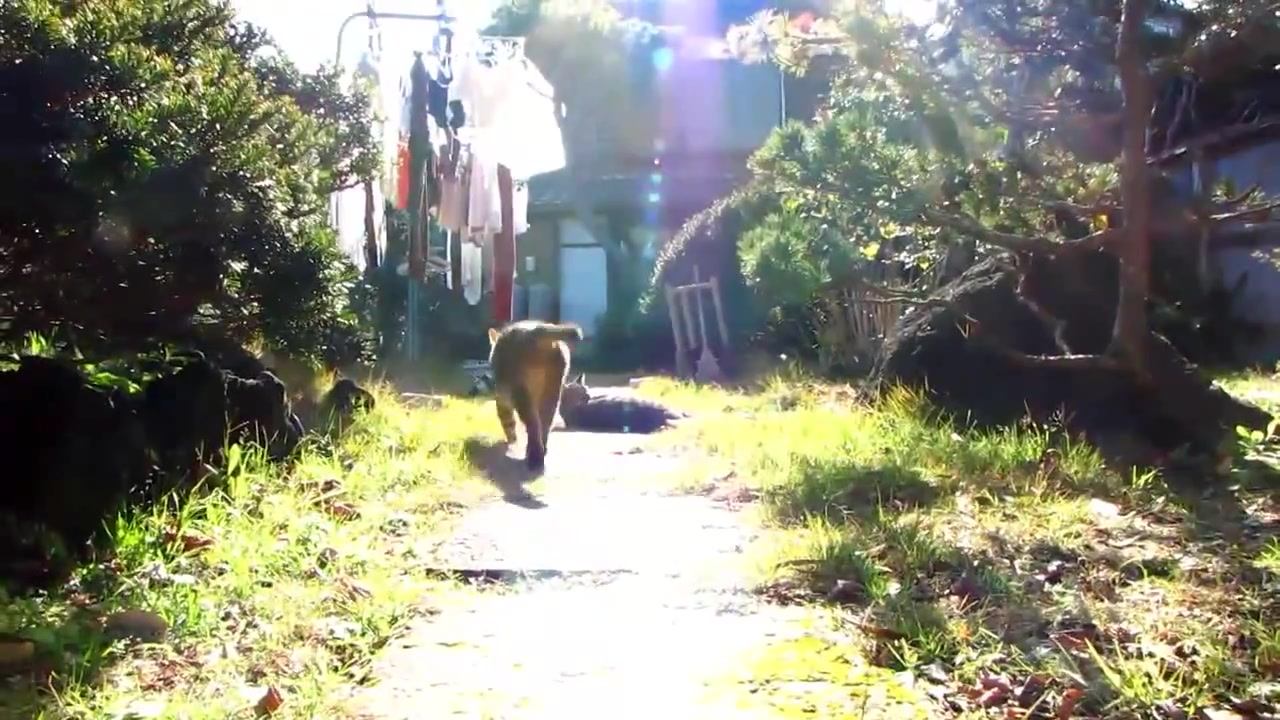cat: (484, 316, 583, 477), (559, 375, 689, 436)
